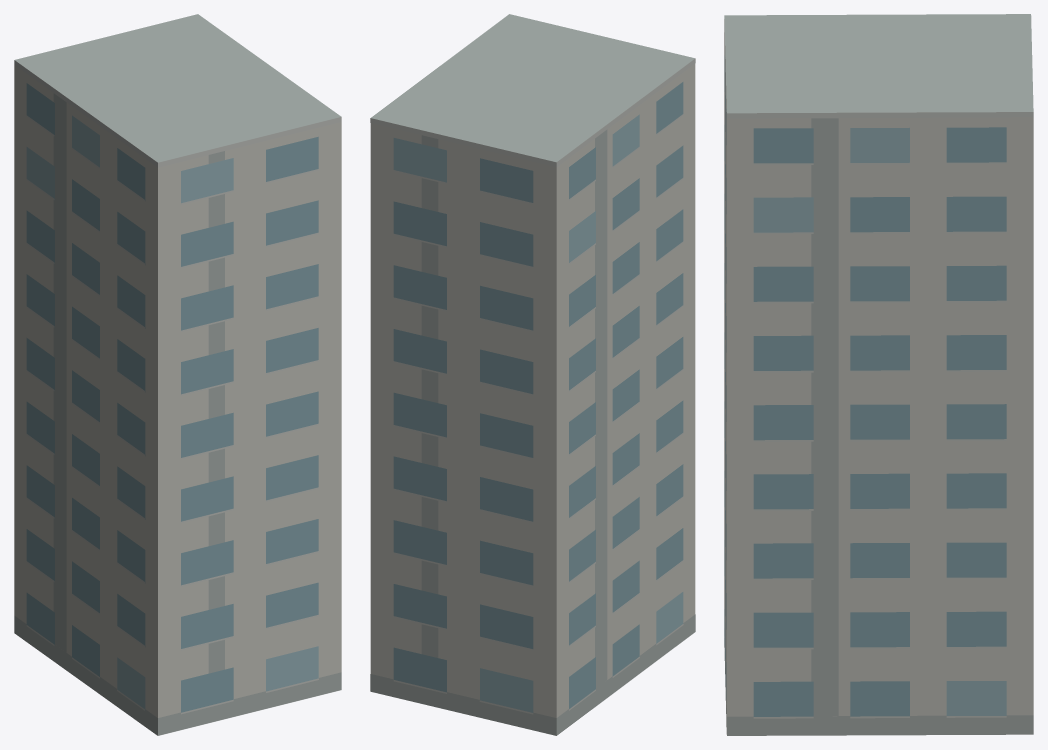
The model's file is residential-fb9b425f-eb94-4333-a2c6-2d08465f8b6d.glb.
The picture shows the model from 3 angles, left to right: view 1: azimuth 30°, elevation 25°; view 2: azimuth 150°, elevation 25°; view 3: azimuth 270°, elevation 25°; orthographic projection. The views are drawn at different scales.
Parts seen in each view (by area): view 1: residential-fb9b425f-eb94-4333-a2c6-2d08465f8b6d.tmp; view 2: residential-fb9b425f-eb94-4333-a2c6-2d08465f8b6d.tmp; view 3: residential-fb9b425f-eb94-4333-a2c6-2d08465f8b6d.tmp.
Part boxes in pixels (x1,y1,x2,y2): residential-fb9b425f-eb94-4333-a2c6-2d08465f8b6d.tmp: (14,14,341,735); residential-fb9b425f-eb94-4333-a2c6-2d08465f8b6d.tmp: (370,14,695,735); residential-fb9b425f-eb94-4333-a2c6-2d08465f8b6d.tmp: (724,14,1033,735).
Size of the model in its own units: 9.58 by 28 by 12.61.
